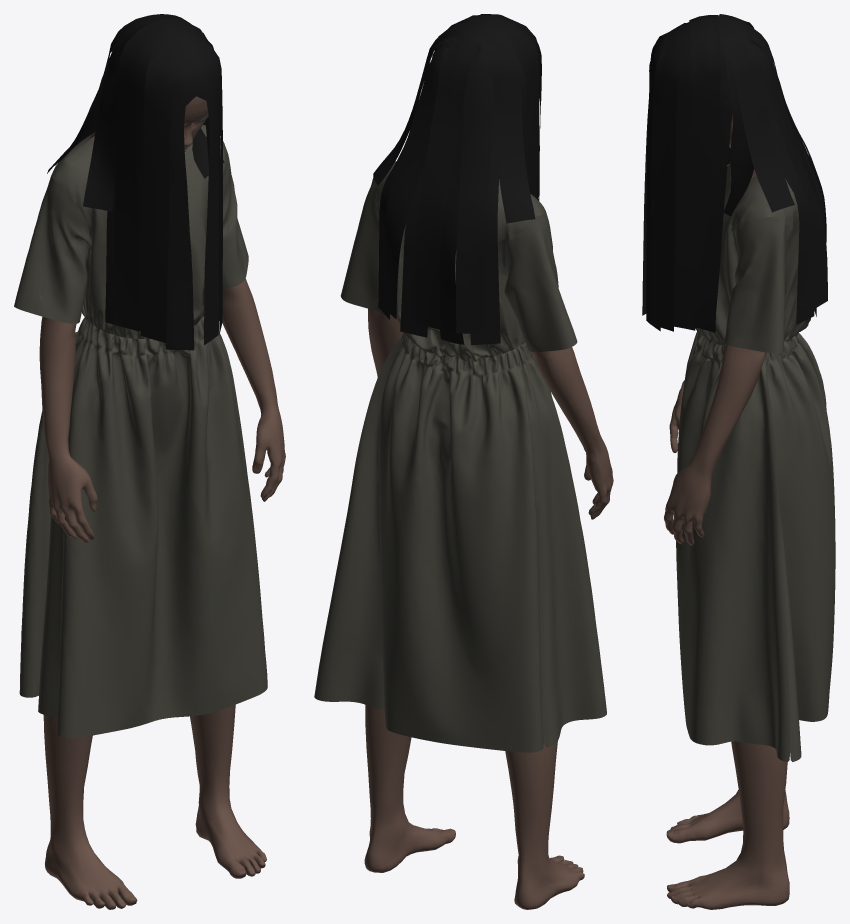
The model's file is ring.glb.
3 views of the same model, side by side, from view 1: azimuth 30°, elevation 25°; view 2: azimuth 150°, elevation 25°; view 3: azimuth 270°, elevation 25° (orthographic).
Visible parts, largest first — view 1: model_1, model_2, model_0; view 2: model_1, model_2, model_0; view 3: model_1, model_2, model_0.
Part boxes in pixels (left/top/right/bottom): model_1: left=14, top=124, right=267, bottom=738; model_2: left=47, top=14, right=224, bottom=350; model_0: left=39, top=96, right=285, bottom=909; model_1: left=314, top=161, right=606, bottom=752; model_2: left=373, top=14, right=541, bottom=345; model_0: left=364, top=213, right=613, bottom=909; model_1: left=676, top=161, right=835, bottom=762; model_2: left=642, top=14, right=827, bottom=332; model_0: left=664, top=115, right=789, bottom=909.
Bounding box in the file's own units: 0.6147 × 2 × 0.4125.
